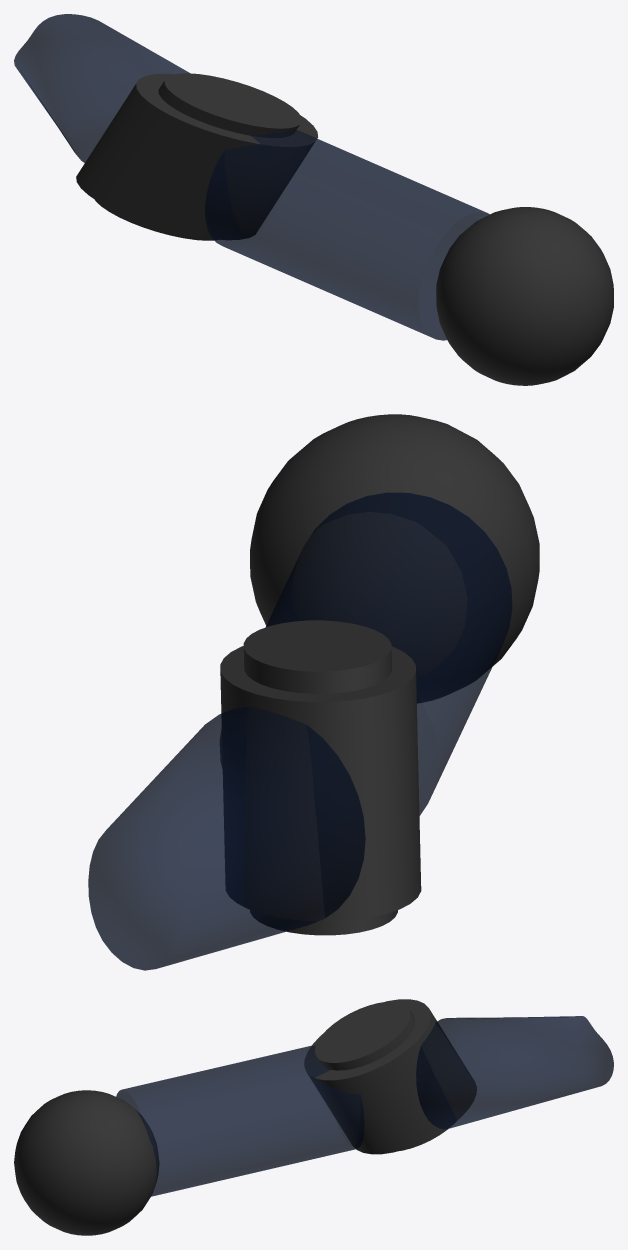
Rendered from left thumb.fbx.
The picture shows the model from 3 angles, top to bottom: view 1: azimuth 30°, elevation 25°; view 2: azimuth 150°, elevation 25°; view 3: azimuth 270°, elevation 25°; orthographic projection. The views are drawn at different scales.
Parts seen in each view (by area): view 1: Left_Thumb Body, Left_Thumb Joint 1, Left_Thumb Joint 2, Left_Thumb Tip, Left_Thumb Joint 2.001; view 2: Left_Thumb Joint 1, Left_Thumb Tip, Left_Thumb Joint 2, Left_Thumb Body, Left_Thumb Joint 2.001; view 3: Left_Thumb Body, Left_Thumb Tip, Left_Thumb Joint 1, Left_Thumb Joint 2, Left_Thumb Joint 2.001.
Part boxes in pixels (left/top/right/bottom): Left_Thumb Body: left=205, top=130, right=489, bottom=340; Left_Thumb Joint 1: left=436, top=207, right=613, bottom=385; Left_Thumb Joint 2: left=76, top=73, right=317, bottom=239; Left_Thumb Tip: left=14, top=14, right=190, bottom=162; Left_Thumb Joint 2.001: left=95, top=73, right=301, bottom=240; Left_Thumb Joint 1: left=250, top=414, right=539, bottom=702; Left_Thumb Tip: left=88, top=707, right=365, bottom=970; Left_Thumb Joint 2: left=220, top=646, right=421, bottom=921; Left_Thumb Body: left=220, top=492, right=512, bottom=815; Left_Thumb Joint 2.001: left=243, top=620, right=397, bottom=935; Left_Thumb Body: left=116, top=1045, right=364, bottom=1196; Left_Thumb Tip: left=416, top=1016, right=613, bottom=1129; Left_Thumb Joint 1: left=14, top=1090, right=159, bottom=1235; Left_Thumb Joint 2: left=304, top=999, right=476, bottom=1154; Left_Thumb Joint 2.001: left=315, top=1001, right=450, bottom=1150.
Size of the model in its own units: 68.42 by 42.61 by 145.
